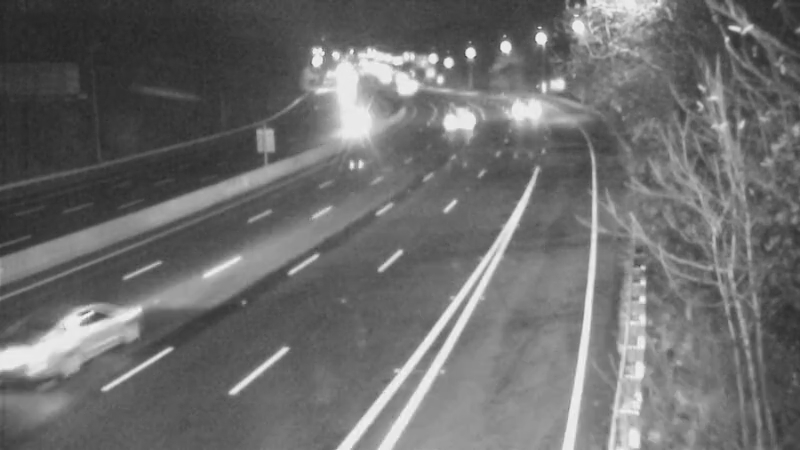vehicle: (19, 288, 129, 398), (493, 86, 543, 136), (431, 93, 481, 143), (330, 99, 380, 149)
